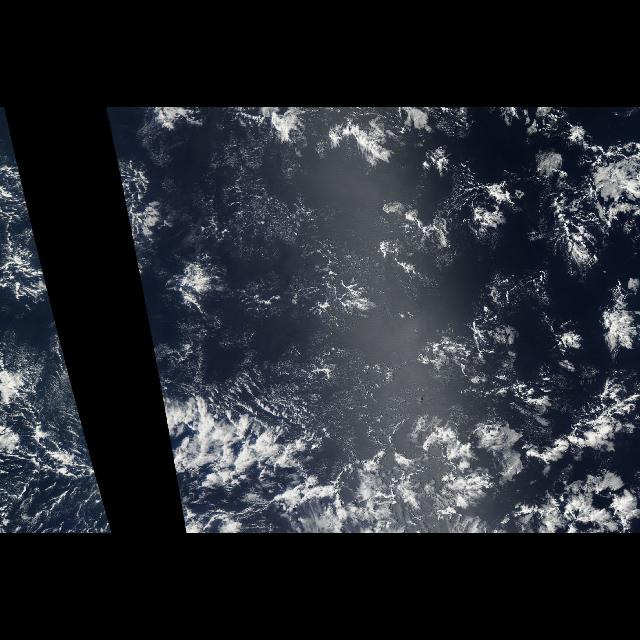Fish: (159, 125, 631, 533)
Sugar: (171, 158, 419, 410)
